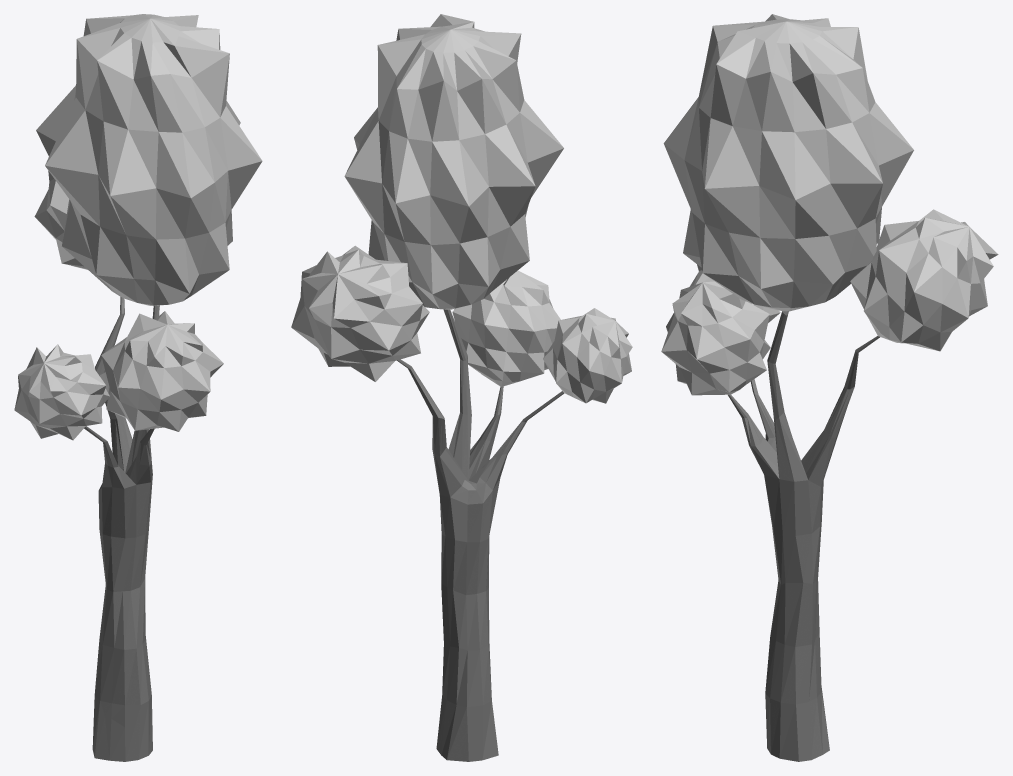
The model's file is SM_Tree_2.FBX.
3 views of the same model, side by side, from view 1: azimuth 30°, elevation 25°; view 2: azimuth 150°, elevation 25°; view 3: azimuth 270°, elevation 25° (orthographic). The views are drawn at different scales.
Parts seen in each view (by area): view 1: Object006; view 2: Object006; view 3: Object006.
Part boxes in pixels (x1=…): Object006: x1=14, y1=14, x2=262, y2=761; Object006: x1=291, y1=14, x2=632, y2=761; Object006: x1=661, y1=14, x2=998, y2=761.
Size of the model in its own units: 69.57 by 193 by 80.14.
